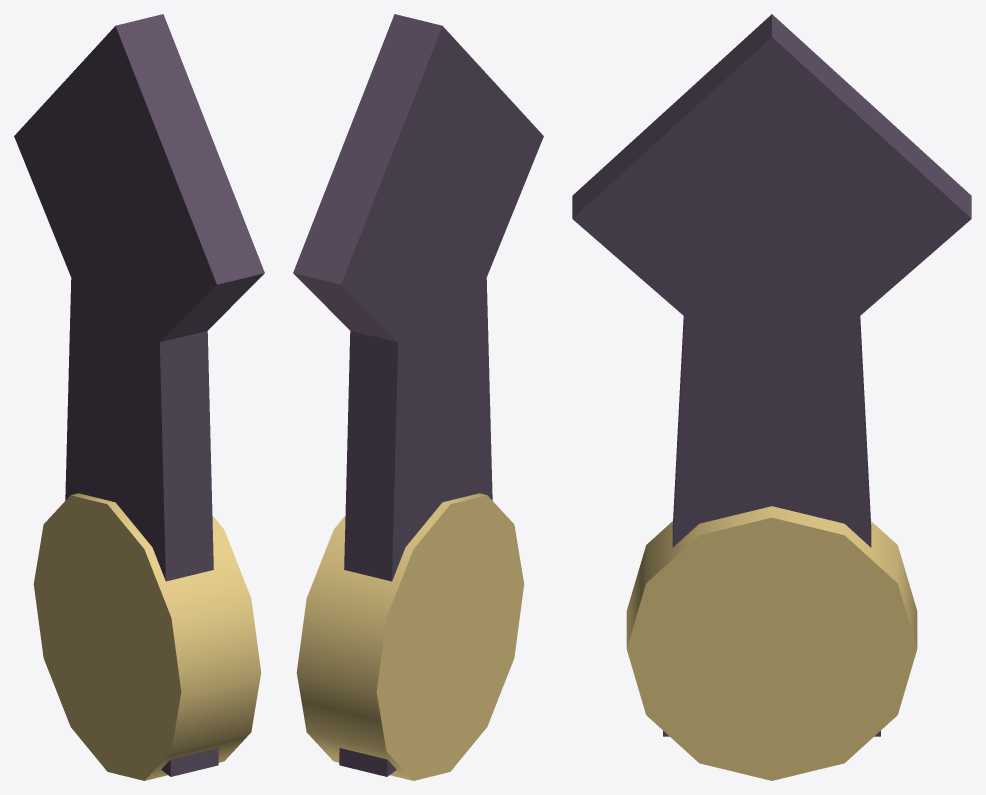
File: clock_hour.glb
3 views of the same model, side by side, from view 1: azimuth 30°, elevation 25°; view 2: azimuth 150°, elevation 25°; view 3: azimuth 270°, elevation 25° (orthographic).
Parts seen in each view (by area): view 1: clock_hour; view 2: clock_hour; view 3: clock_hour.
Boxes of the visible parts, bbox=[...] form: clock_hour: bbox=[14, 14, 264, 780]; clock_hour: bbox=[293, 14, 543, 780]; clock_hour: bbox=[572, 14, 971, 780].
Size of the model in its own units: 0.0104 by 0.0922 by 0.0456.
